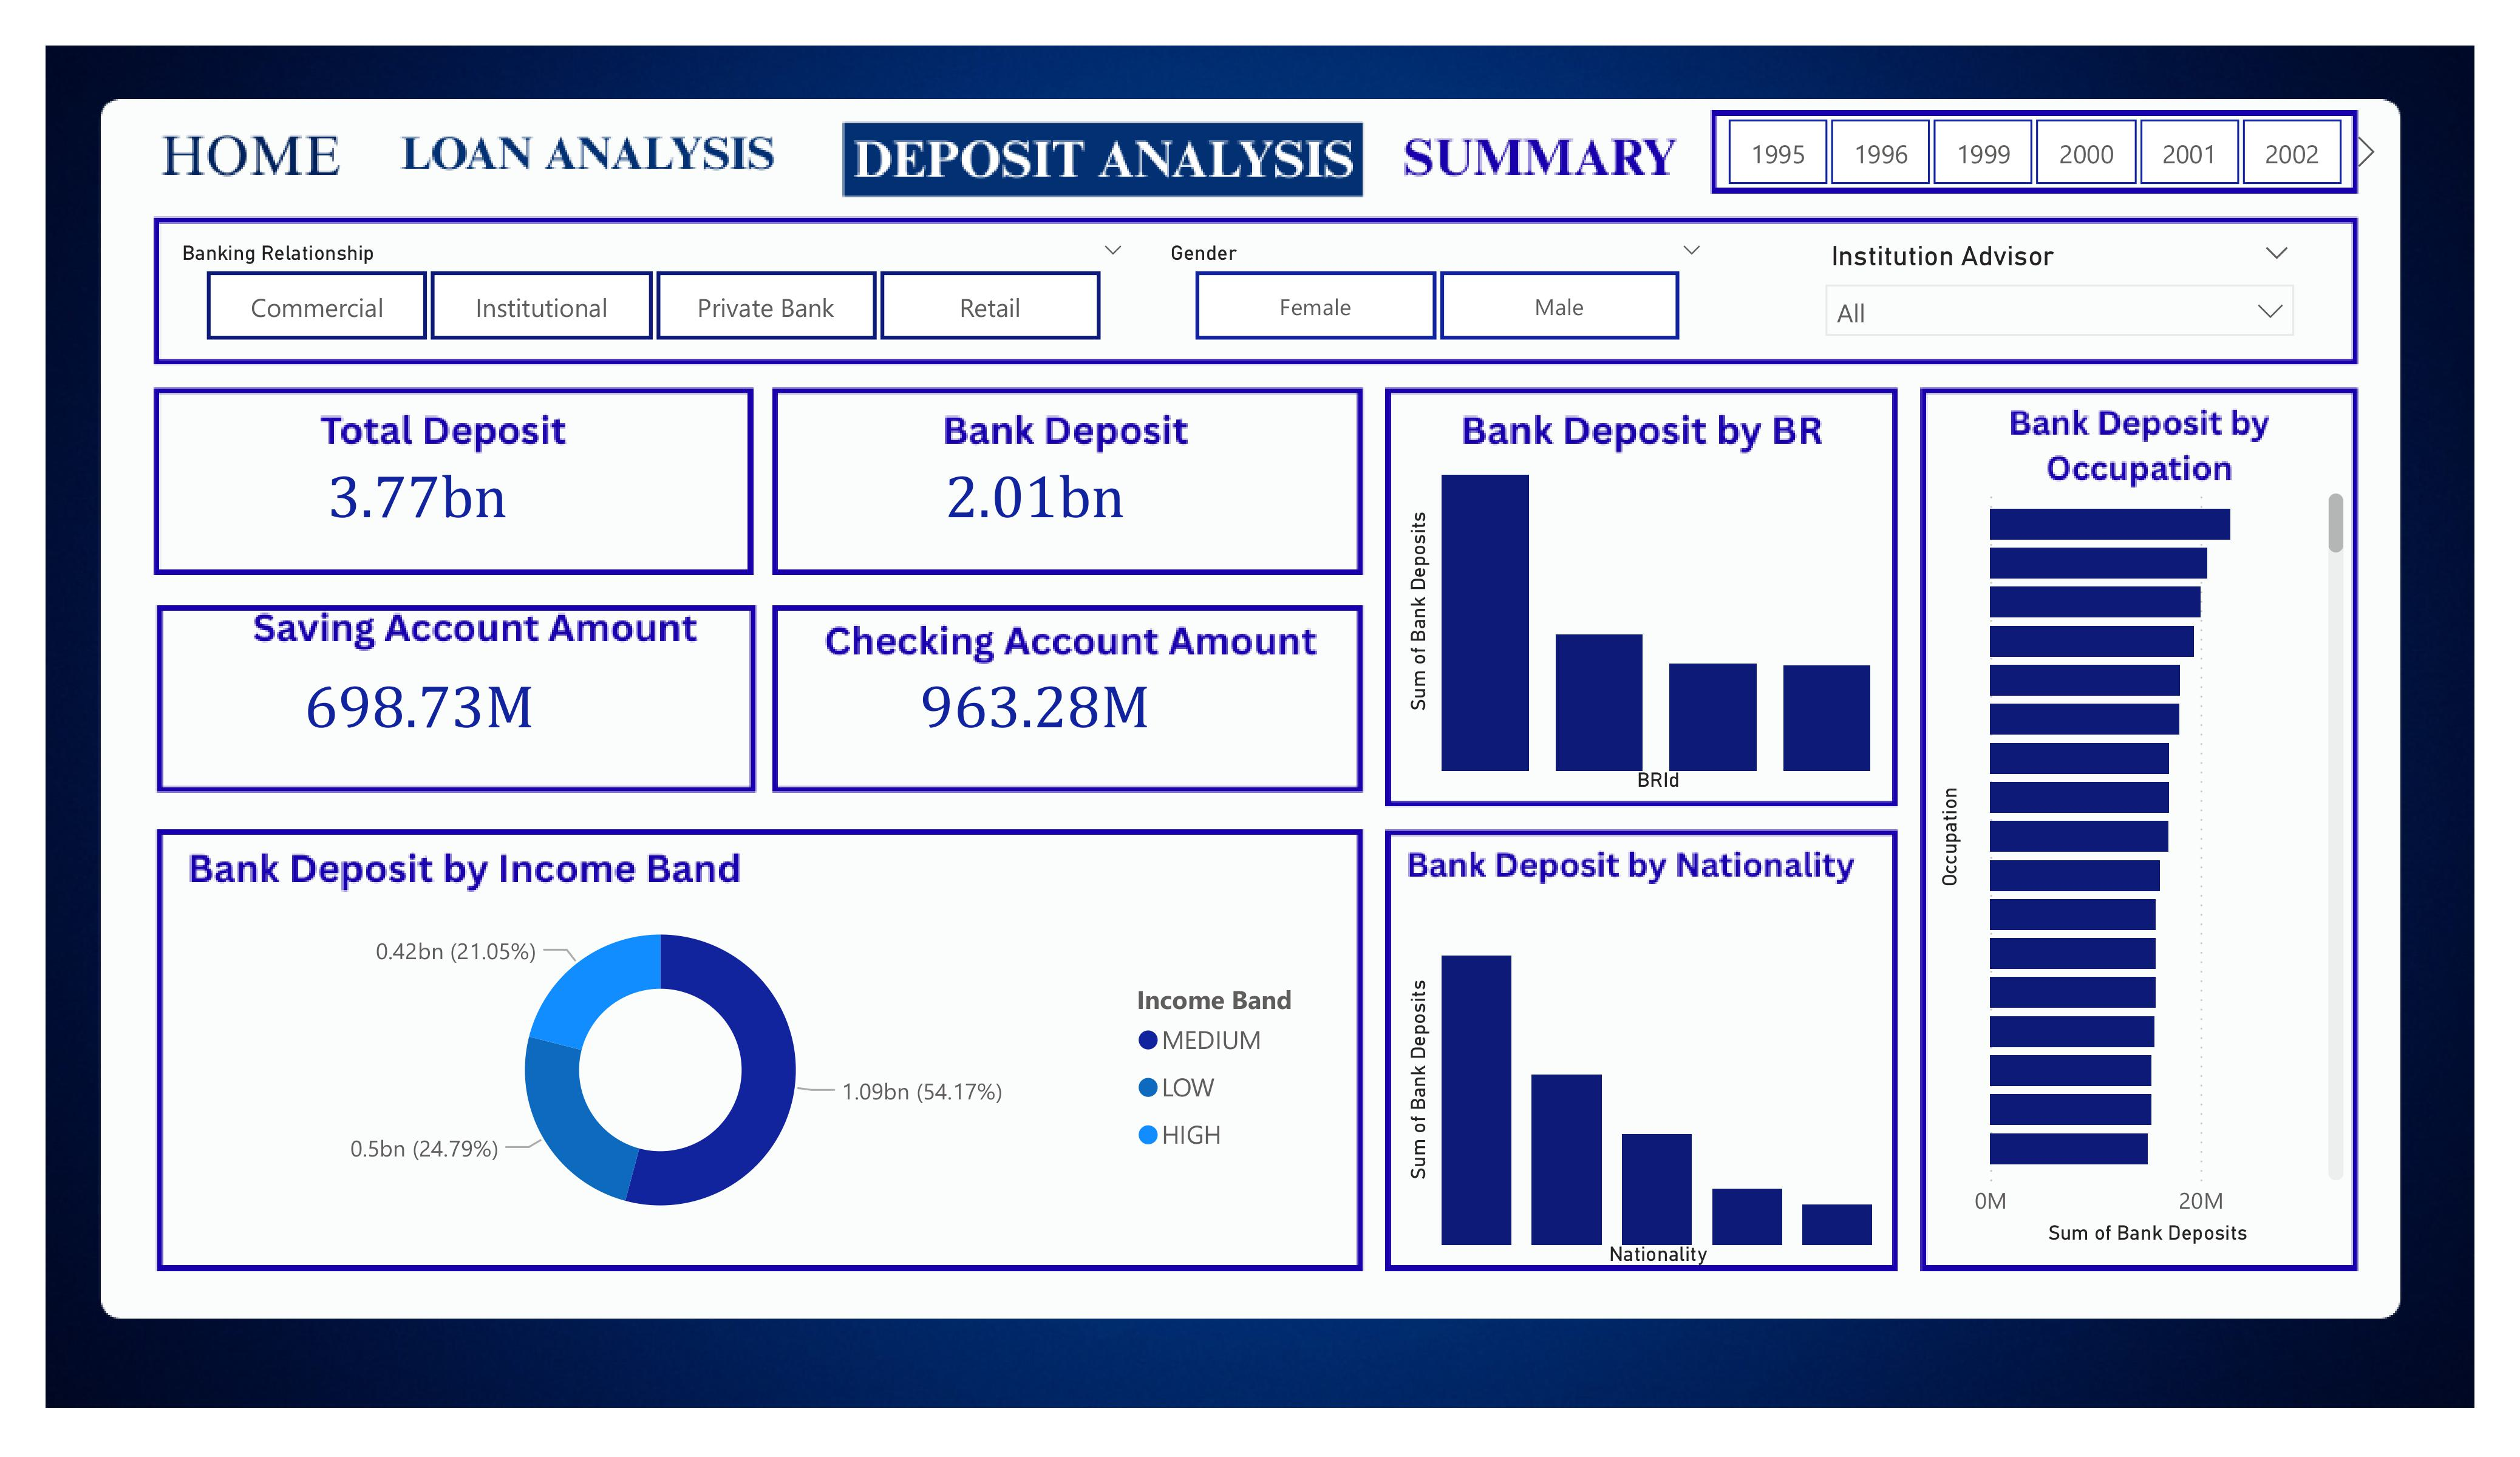

The dashboard page shown, as its layout file describes it:
{"tool":"powerbi","page":{"name":" Deposit Analysis","canvas":[1280,720],"ordinal":2},"visuals":[{"type":"slicer","fields":{"Values":["banking_case customer.Year of joining"]},"box":[861.3,32.5,373,47],"z":0},{"type":"actionButton","box":[59.4,35.8,99.7,40.3],"z":1000},{"type":"actionButton","box":[424.2,35.8,270.9,40.3],"z":2000},{"type":"actionButton","box":[713,39.2,148.9,40.3],"z":3000},{"type":"card","fields":{"Values":["banking_case customer.Total deposit"]},"box":[98.8,200.2,193.7,73.1],"z":4000},{"type":"card","fields":{"Values":["Sum(banking_case customer.Bank Deposits)"]},"box":[424.7,200.2,193.7,73.1],"z":5000},{"type":"card","fields":{"Values":["Sum(banking_case customer.Saving Accounts)"]},"box":[100.1,310.5,193.7,73.1],"z":6000},{"type":"card","fields":{"Values":["Sum(banking_case customer.Checking Accounts)"]},"box":[424.7,310.5,193.7,73.1],"z":7000},{"type":"donutChart","fields":{"Category":["banking_case customer.Income Band"],"Y":["Sum(banking_case customer.Bank Deposits)"]},"box":[68,443.9,612,192.5],"z":8000},{"type":"clusteredColumnChart","fields":{"Category":["banking_case customer.BRId"],"Y":["Sum(banking_case customer.Bank Deposits)"]},"box":[713.4,200.2,255.3,197.6],"z":9000},{"type":"clusteredColumnChart","fields":{"Category":["banking_case customer.Nationality"],"Y":["Sum(banking_case customer.Bank Deposits)"]},"box":[713.4,443.9,255.3,204],"z":10000},{"type":"slicer","fields":{"Values":["banking_case customer.BRId"]},"box":[59,97.5,520.9,64.2],"z":11000},{"type":"slicer","fields":{"Values":["banking_case customer.Gender"]},"box":[580,97.5,305.4,64.2],"z":12000},{"type":"slicer","fields":{"Values":["banking_case customer.IAId"]},"box":[927.7,97.5,266.9,64.2],"z":13000},{"type":"clusteredBarChart","fields":{"Category":["banking_case customer.Occupation"],"Y":["Sum(banking_case customer.Bank Deposits)"]},"box":[992.8,222.7,222.7,414.1],"z":14000}]}

Visuals, with their boxes on the page's 1280x720 design canvas (x1, y1, x2, y2). These are canvas units, not pixel positions in the 2520x1457 screenshot, which may show the page scaled, cropped or inside an application window:
slicer - banking_case customer.Year of joining: crop(861, 32, 1234, 80)
actionButton: crop(59, 36, 159, 76)
actionButton: crop(424, 36, 695, 76)
actionButton: crop(713, 39, 862, 80)
card - banking_case customer.Total deposit: crop(99, 200, 292, 273)
card - Sum(banking_case customer.Bank Deposits): crop(425, 200, 618, 273)
card - Sum(banking_case customer.Saving Accounts): crop(100, 310, 294, 384)
card - Sum(banking_case customer.Checking Accounts): crop(425, 310, 618, 384)
donutChart - banking_case customer.Income Band x Sum(banking_case customer.Bank Deposits): crop(68, 444, 680, 636)
clusteredColumnChart - banking_case customer.BRId x Sum(banking_case customer.Bank Deposits): crop(713, 200, 969, 398)
clusteredColumnChart - banking_case customer.Nationality x Sum(banking_case customer.Bank Deposits): crop(713, 444, 969, 648)
slicer - banking_case customer.BRId: crop(59, 98, 580, 162)
slicer - banking_case customer.Gender: crop(580, 98, 885, 162)
slicer - banking_case customer.IAId: crop(928, 98, 1195, 162)
clusteredBarChart - banking_case customer.Occupation x Sum(banking_case customer.Bank Deposits): crop(993, 223, 1216, 637)
